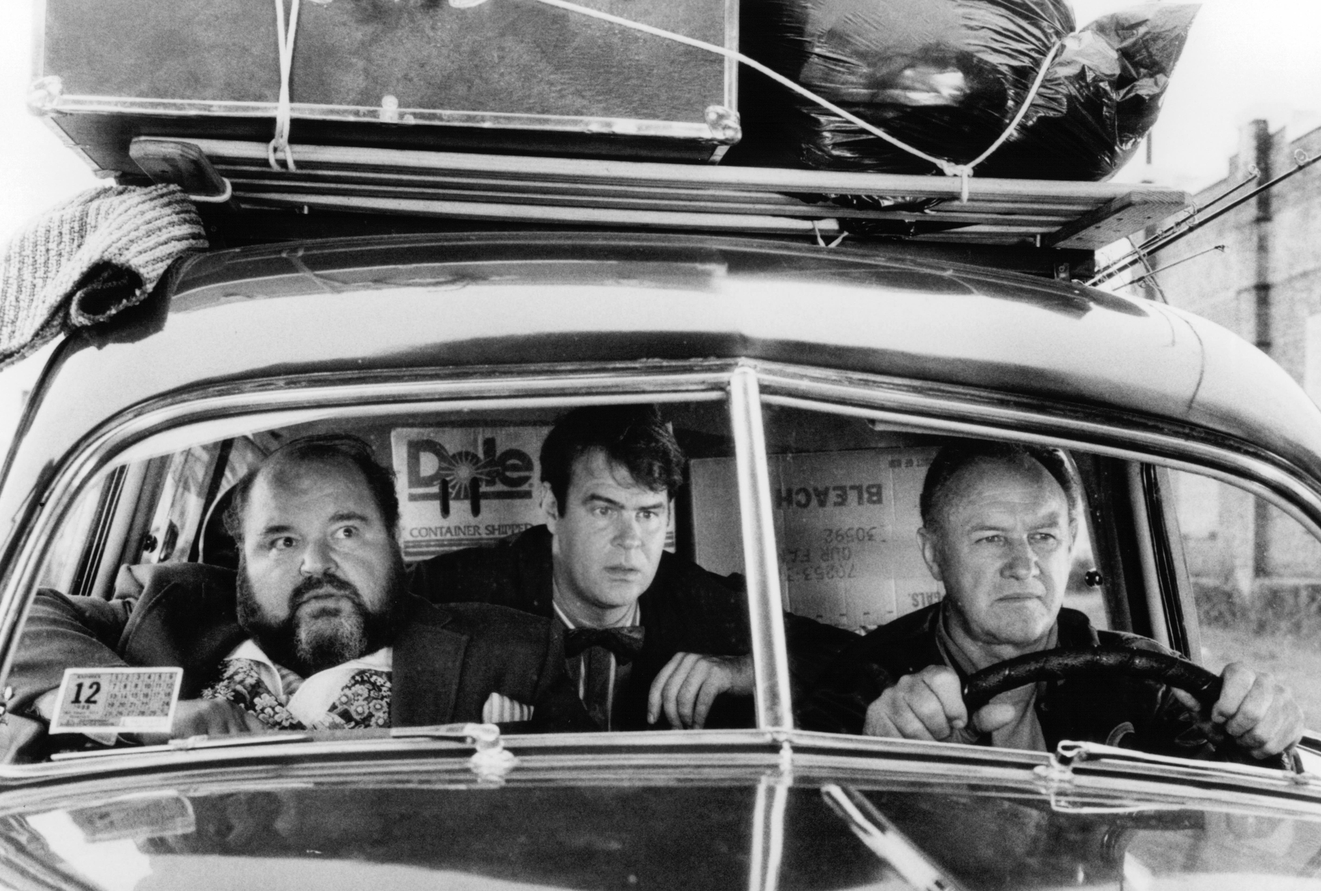33: (542, 433, 684, 626)
46: (222, 430, 413, 677)
57: (922, 443, 1087, 667)
Coat: (2, 540, 607, 769), (397, 516, 875, 732), (797, 596, 1267, 756)
Male: (222, 430, 413, 677), (922, 443, 1087, 667), (542, 433, 684, 626)
Shirt: (200, 619, 408, 735)
T-shirt: (907, 597, 1071, 774)
Tie: (177, 655, 397, 744), (544, 606, 653, 721)
